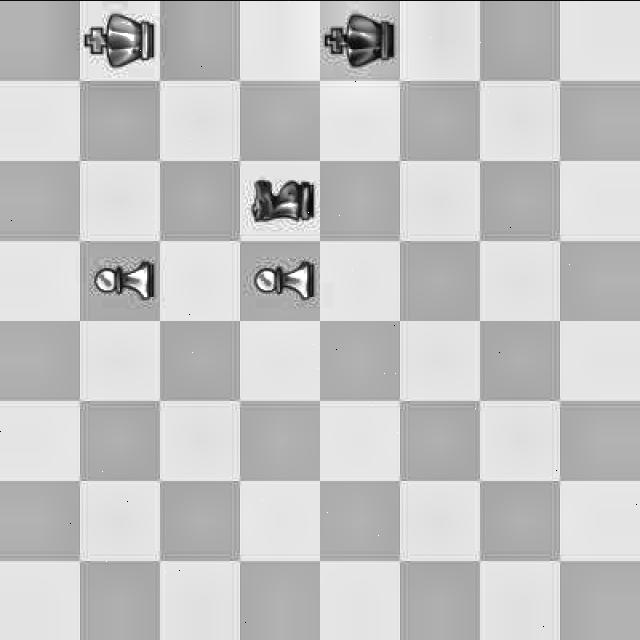Black Knight: (245, 166, 317, 235)
black king: (316, 3, 401, 75)
white king: (80, 4, 153, 75)
white pawn: (242, 242, 314, 316), (84, 246, 160, 312)
